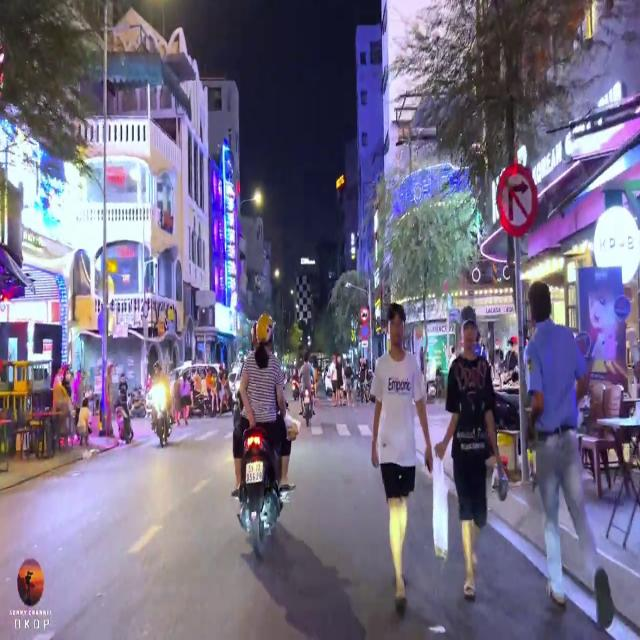bien_trang: (247, 459, 264, 489)
